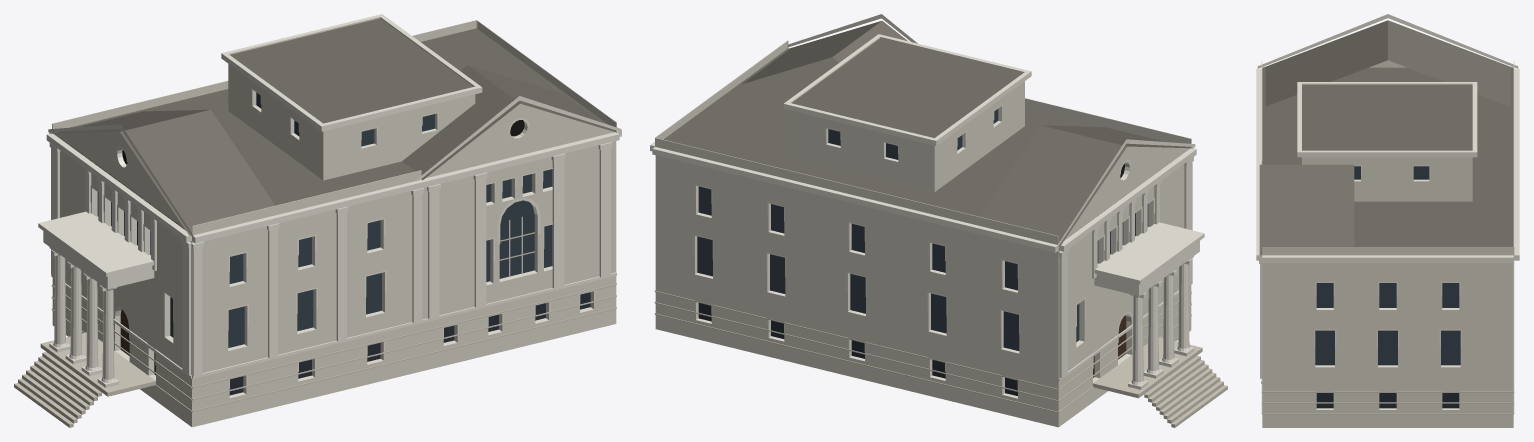
File: second-baptist-church-1961.glb
3 renders of one model, left to right at view 1: azimuth 30°, elevation 25°; view 2: azimuth 150°, elevation 25°; view 3: azimuth 270°, elevation 25°, orthographic. The views are drawn at different scales.
Visible parts, largest first — view 1: second_brick, second_trim, second_roof, second_base, second_stain, second_glass; view 2: second_brick, second_roof, second_trim, second_base, second_stain, second_glass; view 3: second_brick, second_roof, second_trim, second_stain, second_base, second_glass.
Part boxes in pixels (<box>): second_brick: <box>52,17,616,427</box>; second_trim: <box>38,14,621,398</box>; second_roof: <box>51,18,616,235</box>; second_base: <box>14,283,616,427</box>; second_stain: <box>97,92,552,347</box>; second_glass: <box>229,292,590,395</box>; second_brick: <box>655,37,1191,427</box>; second_roof: <box>663,21,1192,245</box>; second_trim: <box>650,14,1204,398</box>; second_base: <box>654,290,1227,427</box>; second_stain: <box>697,109,1148,350</box>; second_glass: <box>698,303,1017,396</box>; second_brick: <box>1261,60,1514,427</box>; second_roof: <box>1259,20,1513,255</box>; second_trim: <box>1256,14,1519,409</box>; second_stain: <box>1315,166,1460,365</box>; second_base: <box>1261,261,1514,414</box>; second_glass: <box>1316,393,1459,408</box>.
Bounding box in the file's own units: 40.31 × 19.94 × 20.
